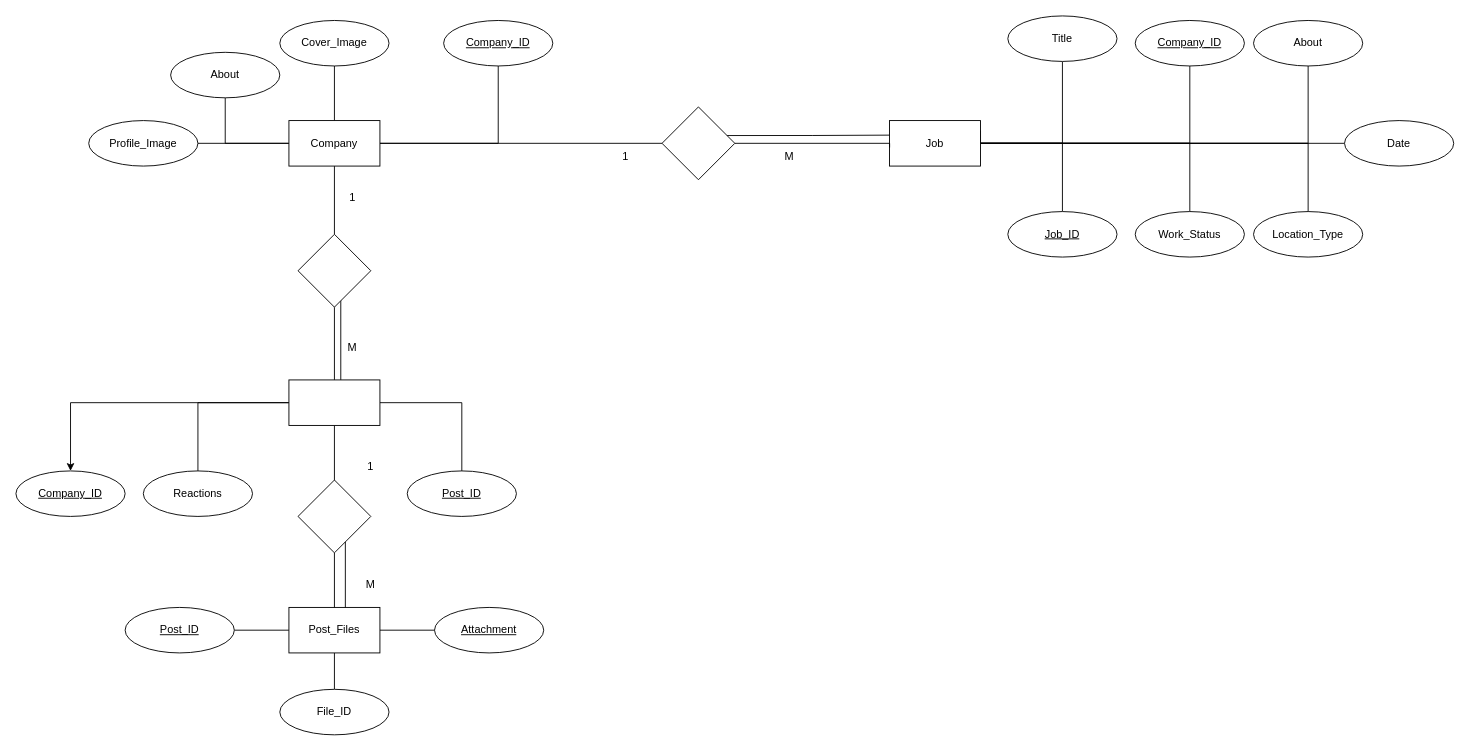
This 1470x751 diagram has some shape labels left out. Here are the shapes that lost their labels. From the top down, the centre of each, then its label:
point 698,143: Provides
point 334,270: Share
point 334,402: Company_Post
point 334,516: Attach
